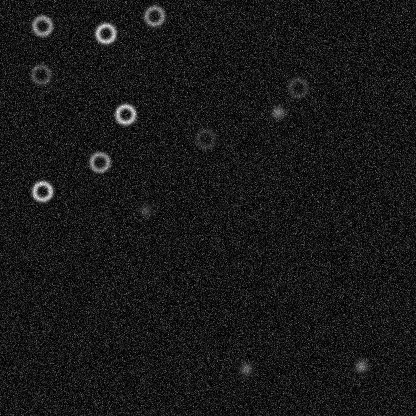Ring: (142, 3, 166, 27), (93, 21, 117, 45), (193, 126, 217, 150), (285, 75, 309, 99), (30, 13, 54, 37), (28, 62, 52, 86), (113, 102, 137, 126), (87, 150, 111, 174), (30, 179, 54, 203)
Spot: (137, 202, 153, 218), (269, 104, 285, 120), (237, 360, 253, 376), (353, 358, 369, 374)
